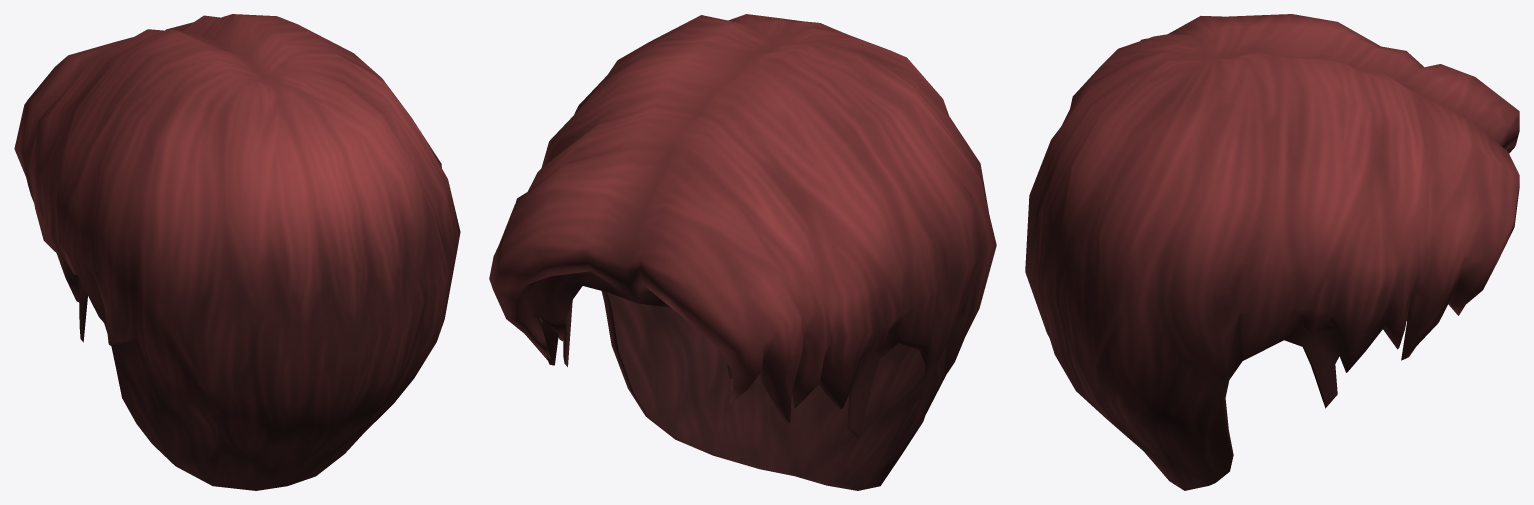
The model's file is Hair_Male_006_textured_red.glb.
3 renders of one model, left to right at view 1: azimuth 30°, elevation 25°; view 2: azimuth 150°, elevation 25°; view 3: azimuth 270°, elevation 25°, orthographic. The views are drawn at different scales.
Visible parts, largest first — view 1: Hair_Male_006; view 2: Hair_Male_006; view 3: Hair_Male_006.
Boxes of the visible parts, x1,y1,x2,y2 form: Hair_Male_006: [14, 14, 460, 490]; Hair_Male_006: [489, 14, 996, 490]; Hair_Male_006: [1025, 14, 1519, 490].
Size of the model in its own units: 0.195 by 0.2308 by 0.2425.
1 material, 1 textured.
